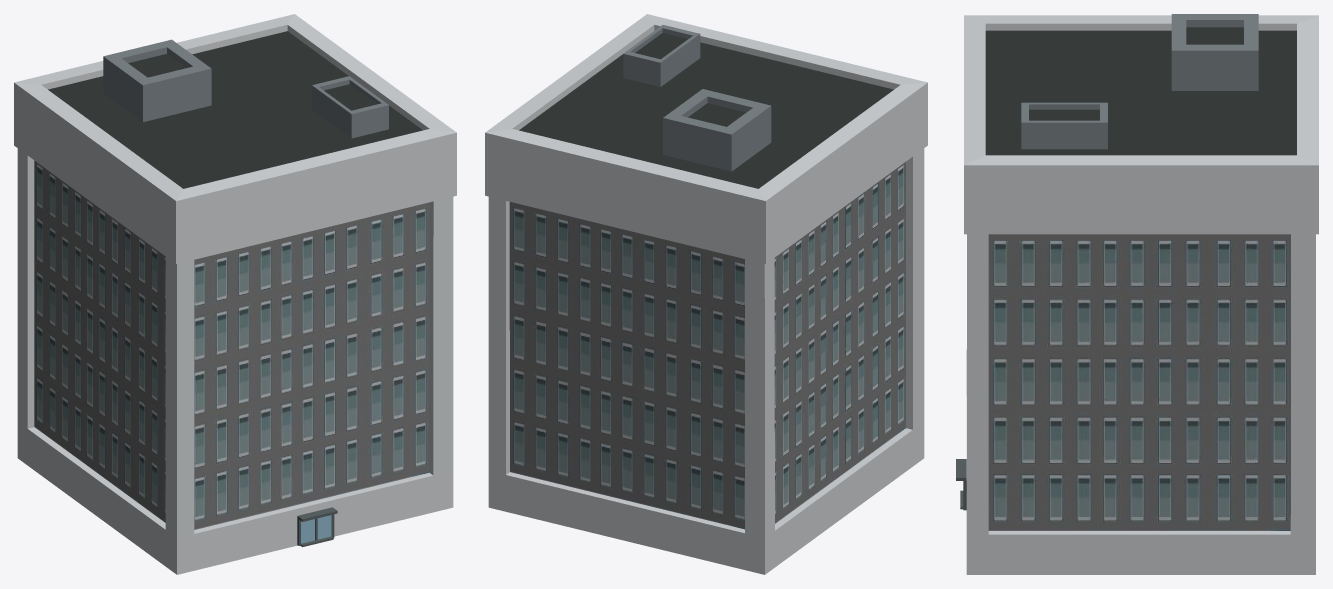
The model's file is university_1.glb.
The picture shows the model from 3 angles, left to right: view 1: azimuth 30°, elevation 25°; view 2: azimuth 150°, elevation 25°; view 3: azimuth 270°, elevation 25°; orthographic projection. The views are drawn at different scales.
Visible parts, largest first — view 1: High Tower Low Grey; view 2: High Tower Low Grey; view 3: High Tower Low Grey.
Boxes of the visible parts, x1=… form: High Tower Low Grey: x1=14, y1=14, x2=456, y2=574; High Tower Low Grey: x1=485, y1=14, x2=927, y2=574; High Tower Low Grey: x1=956, y1=14, x2=1318, y2=574.
Size of the model in its own units: 0.8558 by 1.18 by 0.8749.
Materials: 1 (1 with a texture image).
